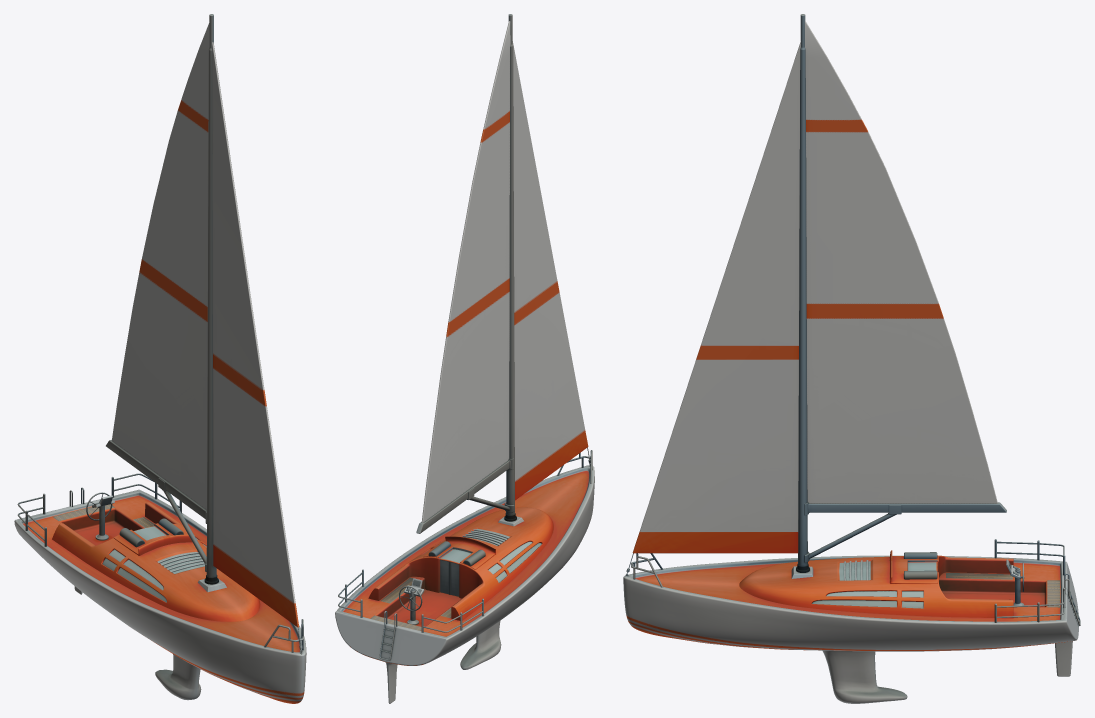
Rendered from Ship.glb.
3 views of the same model, side by side, from view 1: azimuth 30°, elevation 25°; view 2: azimuth 150°, elevation 25°; view 3: azimuth 270°, elevation 25° (orthographic). The views are drawn at different scales.
Visible parts, largest first — view 1: sailboat.1; view 2: sailboat.1; view 3: sailboat.1.
Part boxes in pixels (x1,y1,x2,y2): sailboat.1: (14,14,306,703); sailboat.1: (335,14,594,703); sailboat.1: (623,14,1080,703).
Bounding box in the file's own units: 4.06 × 19.31 × 11.66.
1 material, 1 textured.
